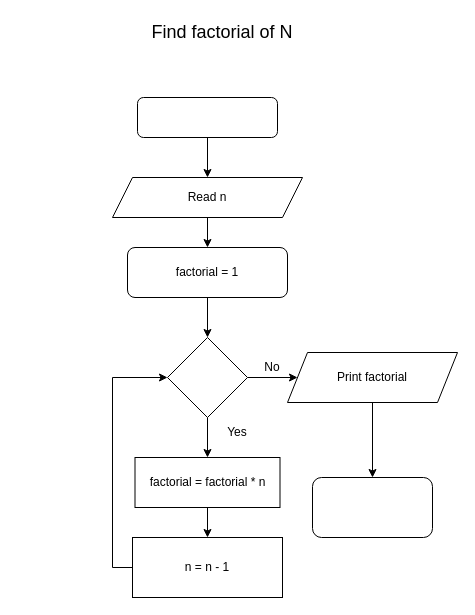
The diagram is 475 pixels wide and 615 high, and some of its shapes have lost their labels. Each missing label, with the centre of its shape:
"End" goes at pixel 372 507.
"Is n > 1?" goes at pixel 207 377.
"Start" goes at pixel 207 117.
